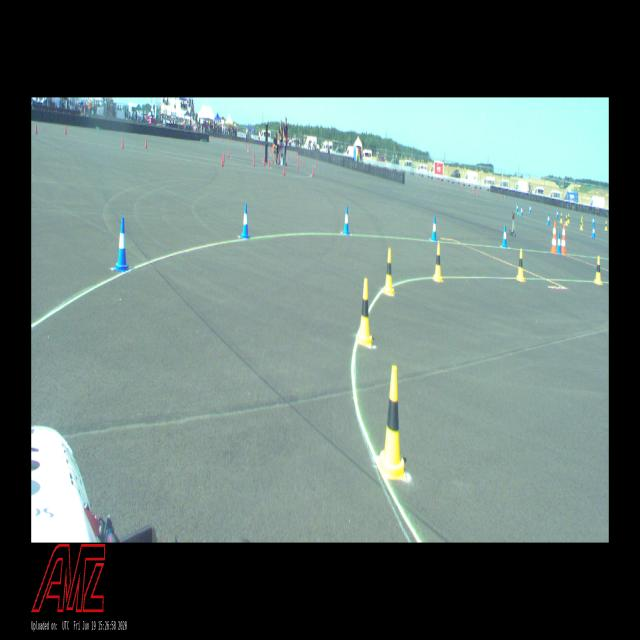blue_cone: (114, 216, 130, 273), (240, 202, 250, 238), (342, 206, 350, 235), (431, 216, 437, 242), (502, 225, 507, 248), (547, 213, 550, 226), (592, 226, 595, 238), (520, 206, 523, 216), (592, 217, 594, 226), (529, 204, 531, 213), (556, 209, 558, 218), (516, 203, 518, 212)
large_orange_cone: (550, 220, 557, 252), (560, 223, 566, 254), (556, 232, 562, 254)
yellow_cone: (377, 365, 407, 480), (356, 277, 373, 348), (383, 248, 394, 296), (433, 243, 442, 282), (516, 248, 525, 281), (594, 256, 602, 284), (560, 212, 562, 223), (565, 215, 567, 225), (580, 220, 582, 230), (605, 221, 607, 230), (568, 214, 570, 222), (580, 215, 582, 223)
